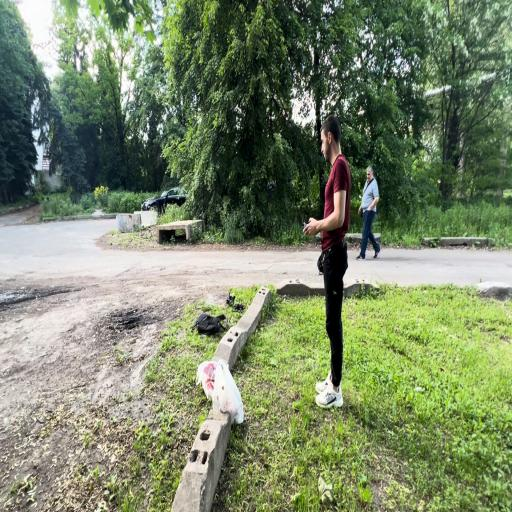drone: (232, 302, 245, 312)
